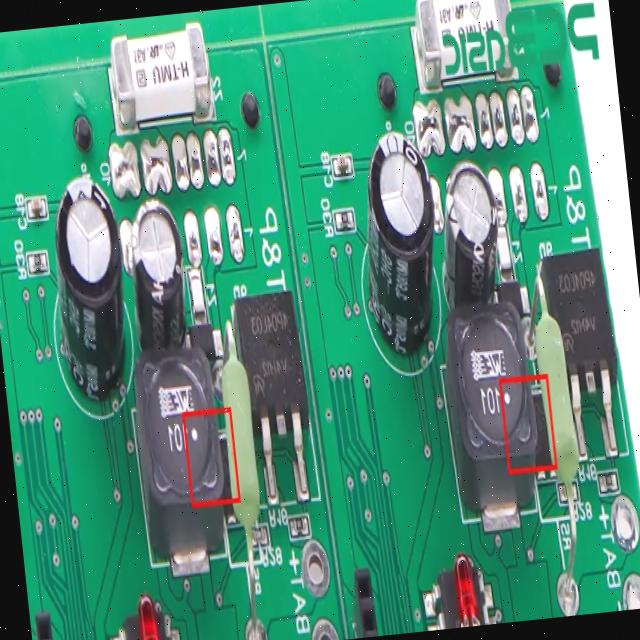Electrolytic capacitor: (40, 178, 140, 404), (347, 129, 449, 346), (125, 202, 194, 359), (438, 166, 512, 311)
led: (448, 546, 486, 628), (133, 584, 167, 640)
